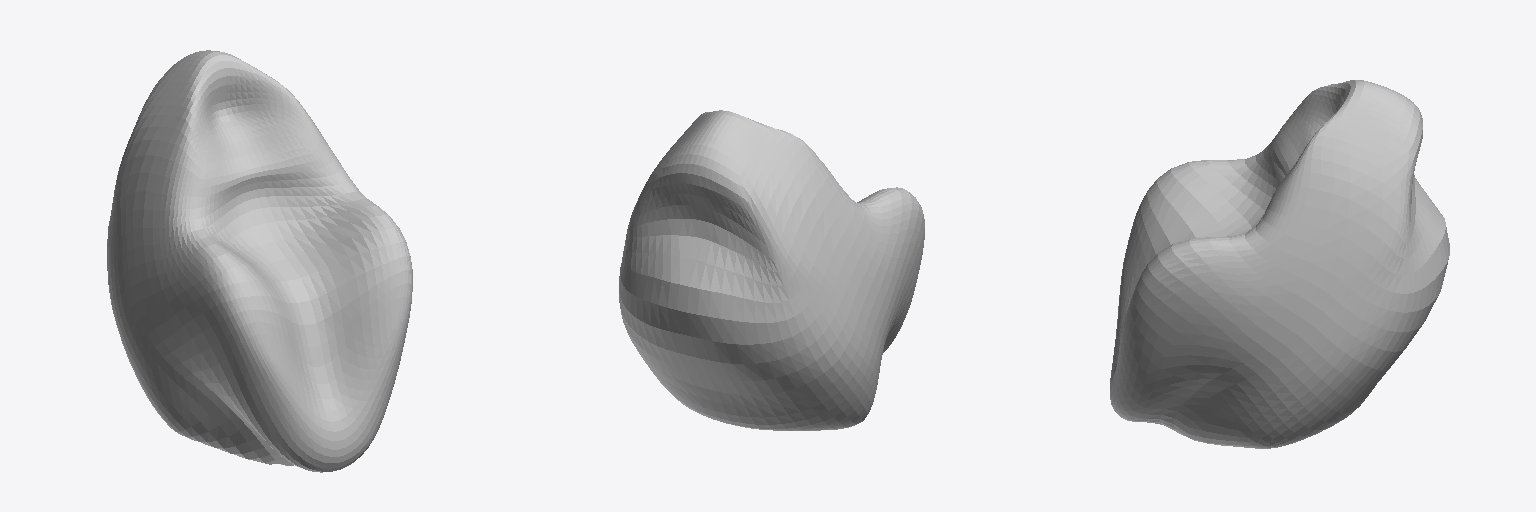
File: vertabrae14.obj
3 views of the same model, side by side, from view 1: azimuth 30°, elevation 25°; view 2: azimuth 150°, elevation 25°; view 3: azimuth 270°, elevation 25° (orthographic).
Parts seen in each view (by area): view 1: Cube.108_Cube.110; view 2: Cube.108_Cube.110; view 3: Cube.108_Cube.110.
Boxes of the visible parts, x1,y1,x2,y2 form: Cube.108_Cube.110: [107, 50, 412, 472]; Cube.108_Cube.110: [619, 110, 924, 430]; Cube.108_Cube.110: [1110, 80, 1449, 448].
Bounding box in the file's own units: 0.0753 × 0.1104 × 0.0986.